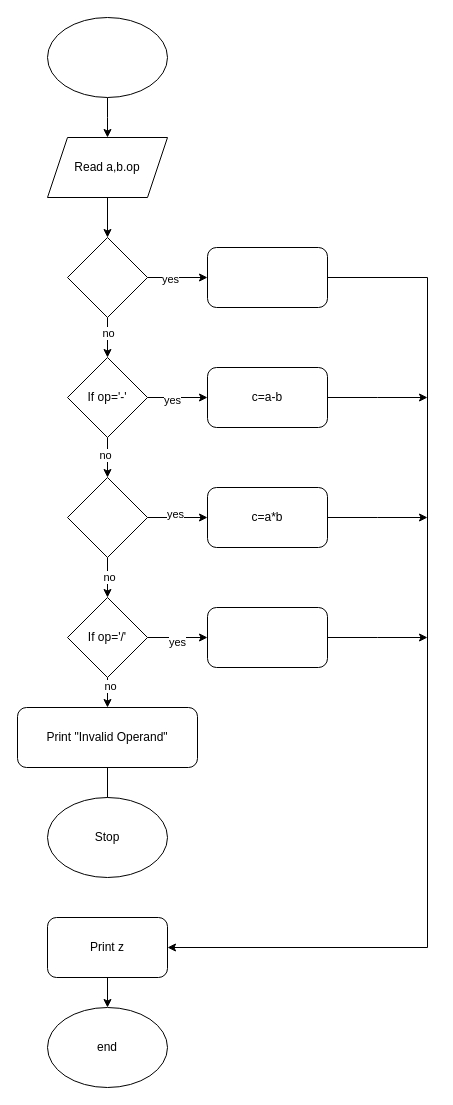
Some shapes in this 453 by 1105 pixel diagram are drawn without their labels. The shapes that lost their labels are listed below. From the top down, each one's centre as x and y in pixels, then its label:
[107,57]: Start
[107,277]: If op='+'
[267,277]: c=a+b
[107,517]: If op='*'
[267,637]: c=a/b
